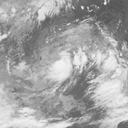cyclone: (30, 35, 86, 90)
